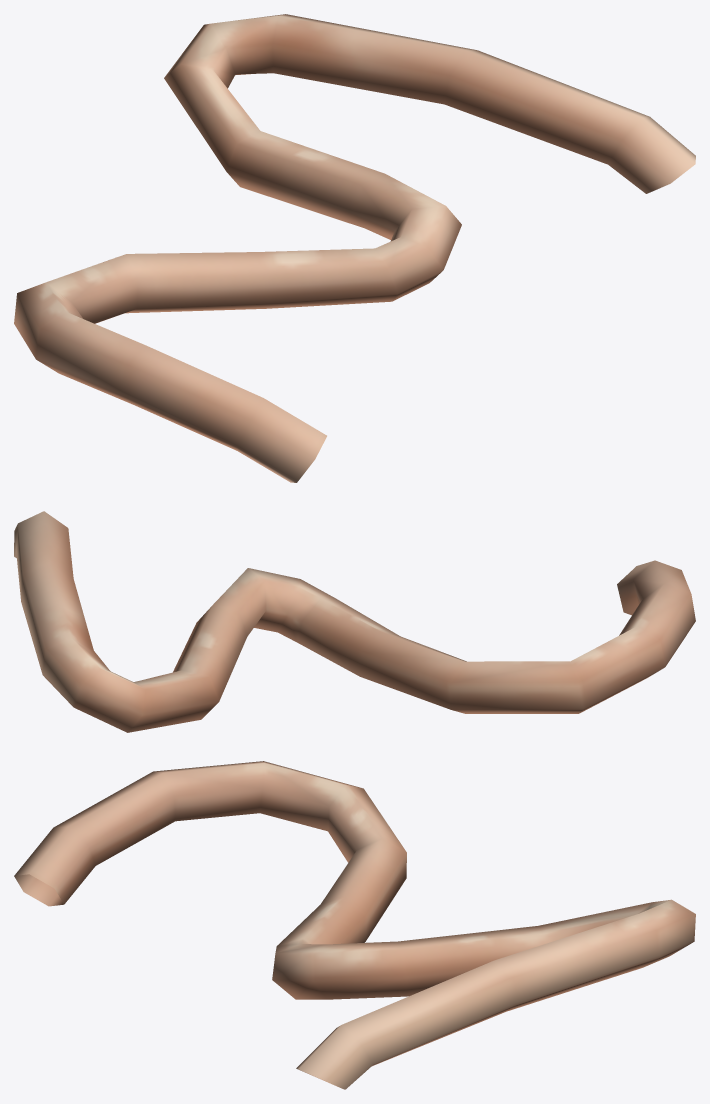
Rendered from ramennoodles.fbx.
3 renders of one model, top to bottom at view 1: azimuth 30°, elevation 25°; view 2: azimuth 150°, elevation 25°; view 3: azimuth 270°, elevation 25°, orthographic. The views are drawn at different scales.
Parts seen in each view (by area): view 1: ramennoodles; view 2: ramennoodles; view 3: ramennoodles.
Part boxes in pixels (x1=…): ramennoodles: x1=14, y1=14, x2=695, y2=482; ramennoodles: x1=14, y1=511, x2=695, y2=732; ramennoodles: x1=14, y1=761, x2=695, y2=1089.
Bounding box in the file's own units: 13.3 × 2.69 × 12.66.
